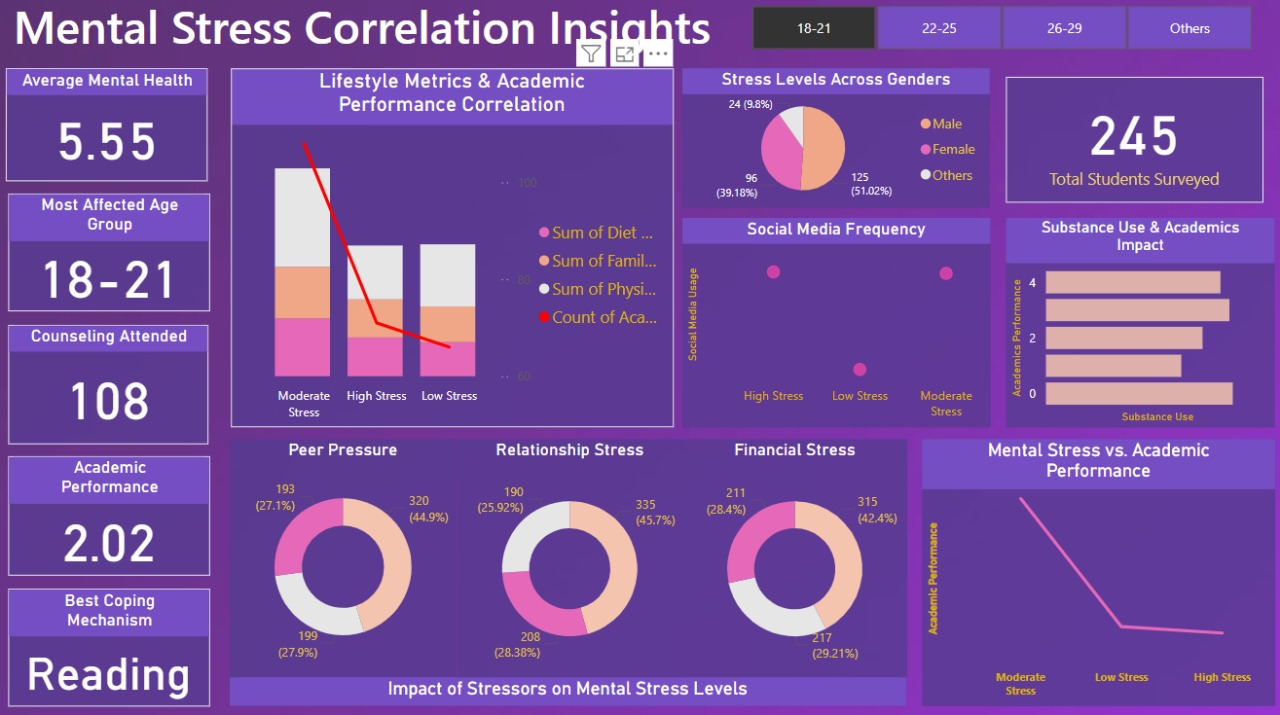

What the dashboard file says about the page in this screenshot:
{"tool":"powerbi","page":{"name":"Page 1","canvas":[1280,720],"ordinal":0},"visuals":[{"type":"card","title":"Academic Performance","fields":{"Values":["Avg(Sheet1.Academic Performance (GPA))"]},"box":[11.7,458.3,200,118.3],"z":0},{"type":"card","title":"Most Affected Age Group","fields":{"Values":["Sheet1.Highest Stress Age Group"]},"box":[11.7,198.3,200,116.7],"z":1000},{"type":"card","title":"Best Coping Mechanism","fields":{"Values":["Sheet1.Best Coping Mechanisms"]},"box":[11.7,590,200,116.7],"z":2000},{"type":"card","title":"Counseling Attended","fields":{"Values":["Sheet1.Counseling_Attended"]},"box":[11.7,328.3,198.3,118.3],"z":3000},{"type":"donutChart","title":"Peer Pressure ","fields":{"Category":["Sheet1.Stress Level Category"],"Y":["Sum(Sheet1.Peer Pressure)"]},"box":[231.7,441.7,225,236.7],"z":4000},{"type":"donutChart","title":"Relationship Stress","fields":{"Category":["Sheet1.Stress Level Category"],"Y":["Sum(Sheet1.Relationship Stress)"]},"box":[456.7,441.7,223.3,236.7],"z":5000},{"type":"donutChart","title":"Financial Stress","fields":{"Category":["Sheet1.Stress Level Category"],"Y":["Sum(Sheet1.Financial Stress)"]},"box":[680,441.7,223.3,236.7],"z":6000},{"type":"textbox","title":"Impact of Stressors on Mental Stress Levels","box":[231.7,678.3,670,28.3],"z":7000},{"type":"lineChart","title":"Mental Stress vs. Academic Performance","fields":{"Category":["Sheet1.Stress Level Category"],"Y":["Sum(Sheet1.Academic Performance (GPA))"]},"box":[918.3,441.7,350,265],"z":8000},{"type":"textbox","title":"Mental Stress Correlation Insights","box":[11.7,0,711.7,61.7],"z":9000},{"type":"lineStackedColumnComboChart","title":" Lifestyle Metrics & Academic Performance Correlation","fields":{"Category":["Sheet1.Stress Level Category"],"Y":["Sum(Sheet1.Diet Quality)","Sum(Sheet1.Family Support  )","Sum(Sheet1.Physical Exercise (Hours per week))"],"Y2":["CountNonNull(Sheet1.Academic Performance (GPA))"]},"box":[233.3,73.3,438.3,356.7],"z":10000},{"type":"card","title":"Average Mental Health","fields":{"Values":["Avg(Sheet1.Mental Stress Level)"]},"box":[10,73.3,200,111.7],"z":11000},{"type":"scatterChart","title":"Social Media Frequency","fields":{"Y":["Avg(Sheet1.Social Media Usage (Hours per day))"],"X":["Sheet1.Stress Level Category"]},"box":[680,222.2,305.6,207.8],"z":12000},{"type":"slicer","fields":{"Values":["Sheet1.Age Group"]},"box":[723.3,5,545,56.7],"z":13000},{"type":"barChart","title":"Substance Use & Academics Impact","fields":{"Y":["Sum(Sheet1.Substance Use)"],"Category":["Sheet1.Academic Performance (GPA)"]},"box":[1001.7,221.7,266.7,208.3],"z":14000},{"type":"pieChart","title":"Stress Levels Across Genders","fields":{"Category":["Sheet1.gender group"],"Y":["CountNonNull(Sheet1.Stress Level Category)"]},"box":[680,73.3,305,138.3],"z":15000},{"type":"card","fields":{"Values":["Sheet1.Total Students Surveyed"]},"box":[1001.7,81.7,255,125],"z":16000}]}

Visuals, with their boxes in screenshot pixels (x1, y1, x2, y2), scaled from the page's 1280x720 canvas onto the 1280x715 screenshot:
"Academic Performance" card: 12:455:212:573
"Most Affected Age Group" card: 12:197:212:313
"Best Coping Mechanism" card: 12:586:212:702
"Counseling Attended" card: 12:326:210:443
"Peer Pressure " donutChart: 232:439:457:674
"Relationship Stress" donutChart: 457:439:680:674
"Financial Stress" donutChart: 680:439:903:674
"Impact of Stressors on Mental Stress Levels" textbox: 232:674:902:702
"Mental Stress vs. Academic Performance" lineChart: 918:439:1268:702
"Mental Stress Correlation Insights" textbox: 12:0:723:61
" Lifestyle Metrics & Academic Performance Correlation" lineStackedColumnComboChart: 233:73:672:427
"Average Mental Health" card: 10:73:210:184
"Social Media Frequency" scatterChart: 680:221:986:427
slicer - Sheet1.Age Group: 723:5:1268:61
"Substance Use & Academics Impact" barChart: 1002:220:1268:427
"Stress Levels Across Genders" pieChart: 680:73:985:210
card - Sheet1.Total Students Surveyed: 1002:81:1257:205
